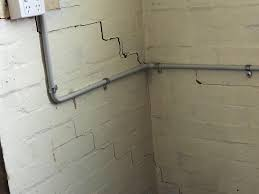stairstep_crack: (51, 121, 182, 193), (45, 19, 143, 63)
